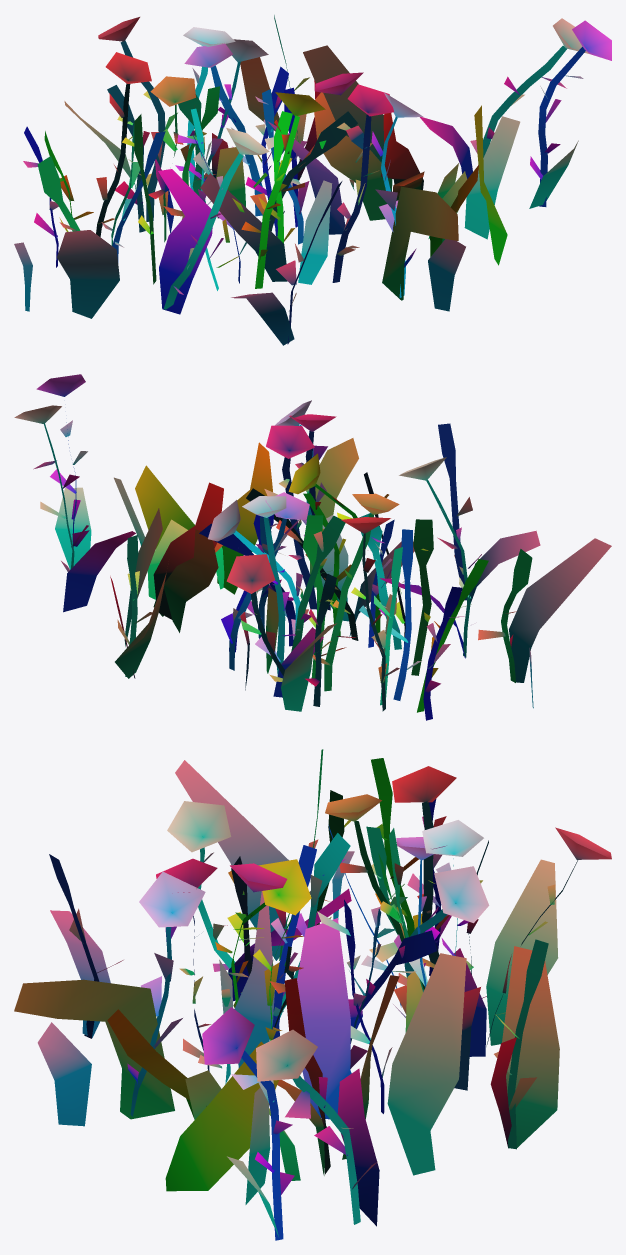
Rendered from Matted_Pratia_uegjcflia_Mid_uegjcflia_VarB_LOD1.fbx.
The picture shows the model from 3 angles, top to bottom: view 1: azimuth 30°, elevation 25°; view 2: azimuth 150°, elevation 25°; view 3: azimuth 270°, elevation 25°; orthographic projection. The views are drawn at different scales.
Parts seen in each view (by area): view 1: _8193_VarB_LOD2; view 2: _8193_VarB_LOD2; view 3: _8193_VarB_LOD2.
Part boxes in pixels (box(x1,y1,x2,y2)): _8193_VarB_LOD2: box(14, 15, 611, 345); _8193_VarB_LOD2: box(14, 374, 611, 720); _8193_VarB_LOD2: box(14, 749, 611, 1240).
Size of the model in its own units: 26.87 by 9.11 by 19.32.
